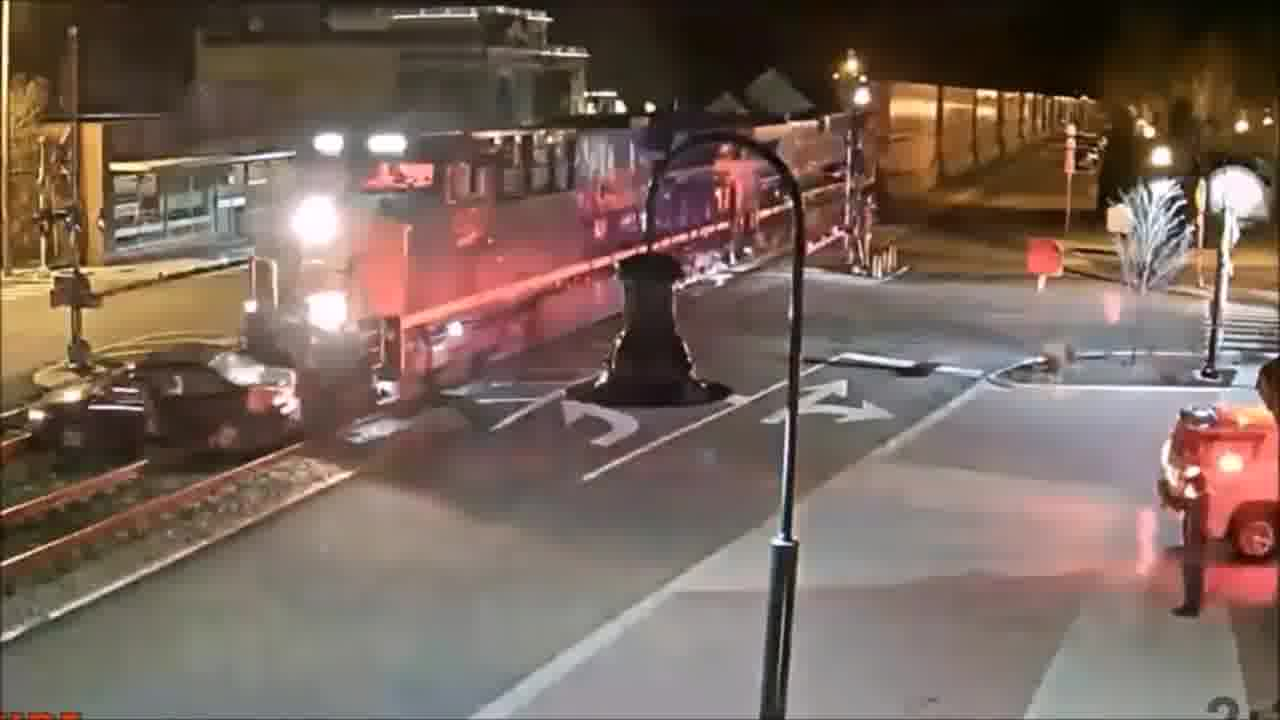crossing railway track: (10, 340, 306, 503)
